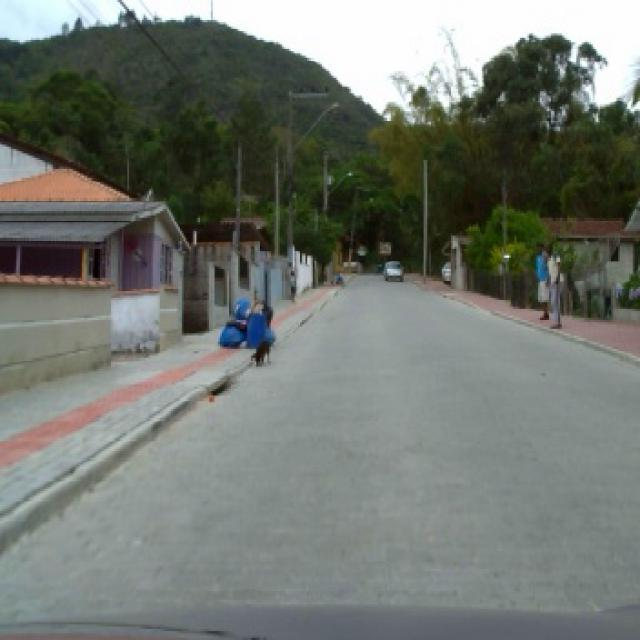Poth-hole: (208, 373, 236, 398)
